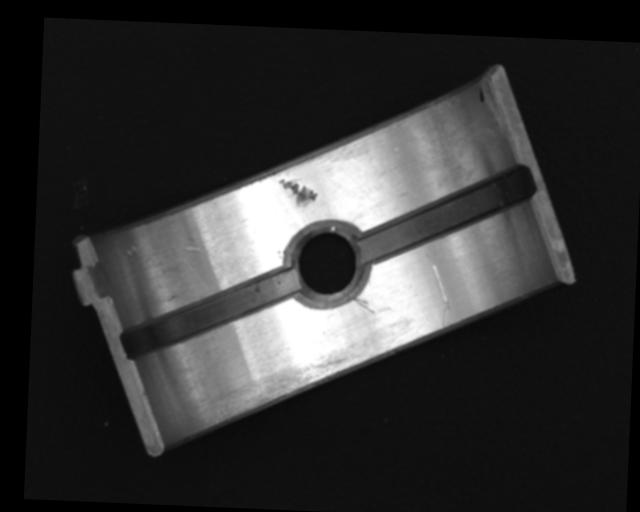blot: (477, 86, 485, 103)
bruise: (276, 179, 318, 208), (183, 244, 206, 255)
gap: (359, 162, 534, 269), (119, 264, 297, 365)
hole: (287, 218, 371, 309)
nick: (420, 254, 451, 331), (352, 297, 375, 314)
scratch: (210, 335, 380, 432)
